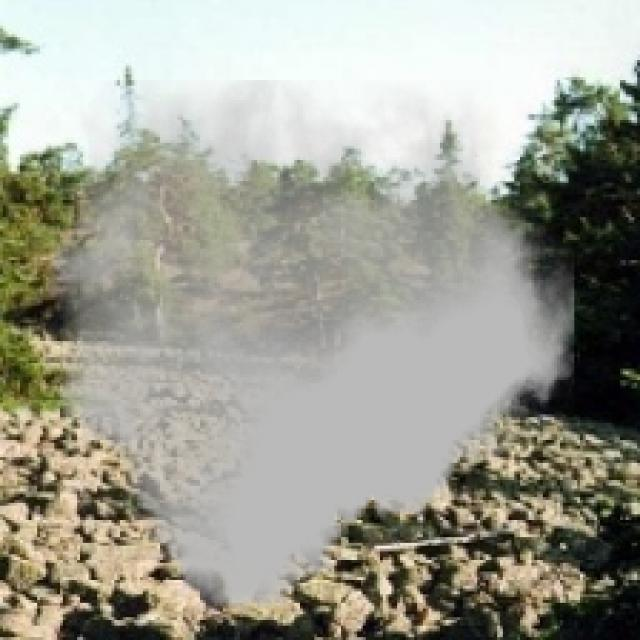smoke: (49, 80, 574, 609)
